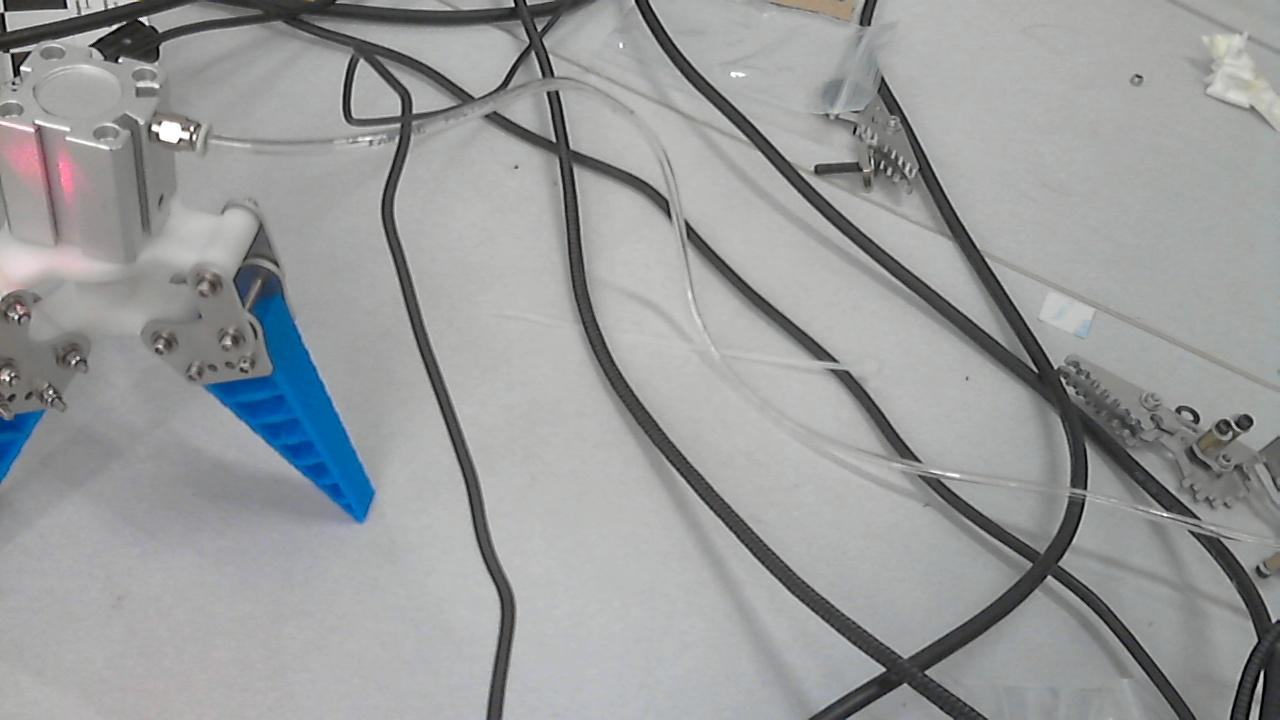Object robotic gripper finger assembly - Material metal - Pdfname Yy6dySnH33wN: (1, 131, 120, 219)
